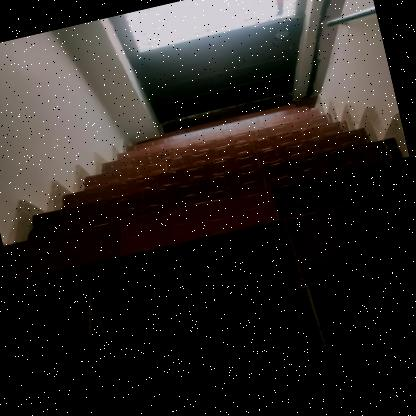stair: (14, 72, 416, 416)
